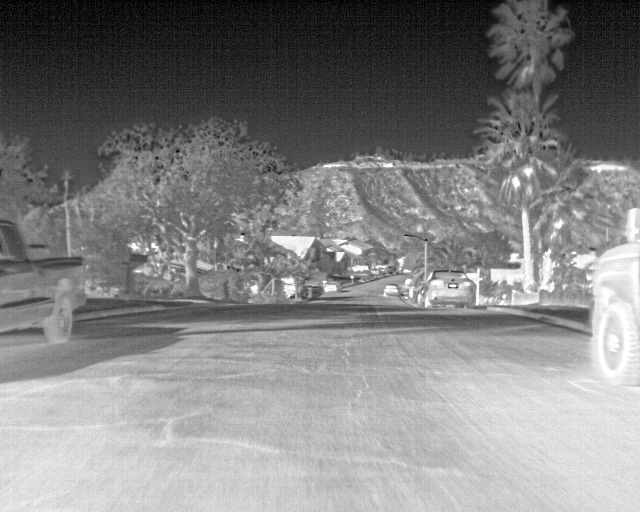vehicle: (1, 220, 88, 346), (593, 212, 640, 378), (416, 270, 477, 309), (383, 282, 402, 298)
